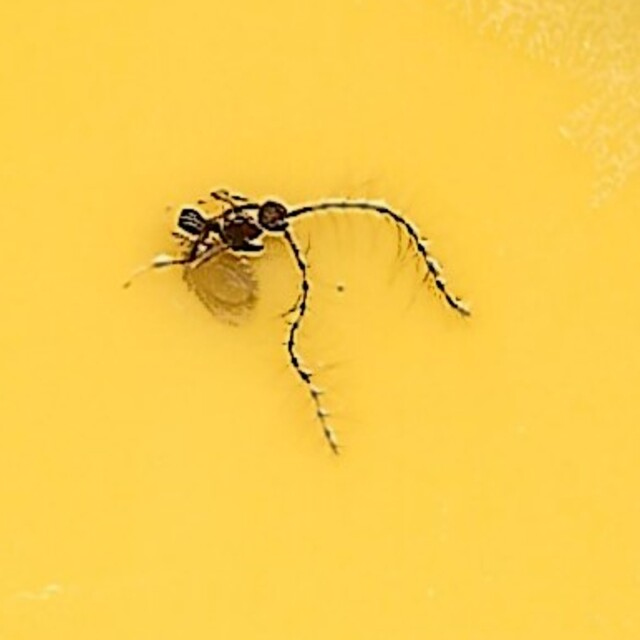Hymenoptera: (166, 183, 474, 457)
